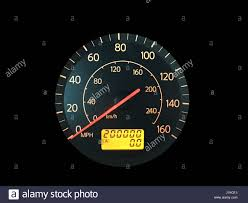Digital_Meter: (100, 127, 147, 152)
